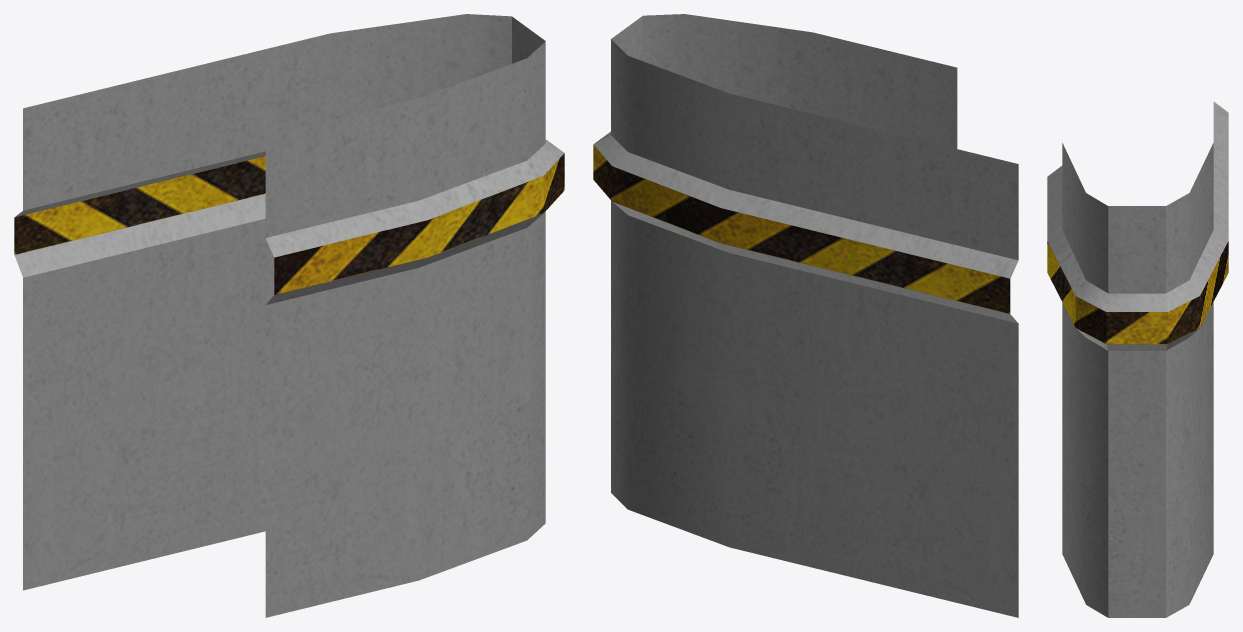
File: Wall_1m_Roll180_03.FBX
The picture shows the model from 3 angles, left to right: view 1: azimuth 30°, elevation 25°; view 2: azimuth 150°, elevation 25°; view 3: azimuth 270°, elevation 25°; orthographic projection. The views are drawn at different scales.
Parts seen in each view (by area): view 1: Wall_1m_Roll180_03_mesh; view 2: Wall_1m_Roll180_03_mesh; view 3: Wall_1m_Roll180_03_mesh.
Part boxes in pixels (bbox=[...]): Wall_1m_Roll180_03_mesh: bbox=[14, 14, 564, 617]; Wall_1m_Roll180_03_mesh: bbox=[593, 14, 1018, 617]; Wall_1m_Roll180_03_mesh: bbox=[1047, 101, 1228, 617].
Bounding box in the file's own units: 312 × 300 × 120.
2 materials, 2 textured.
